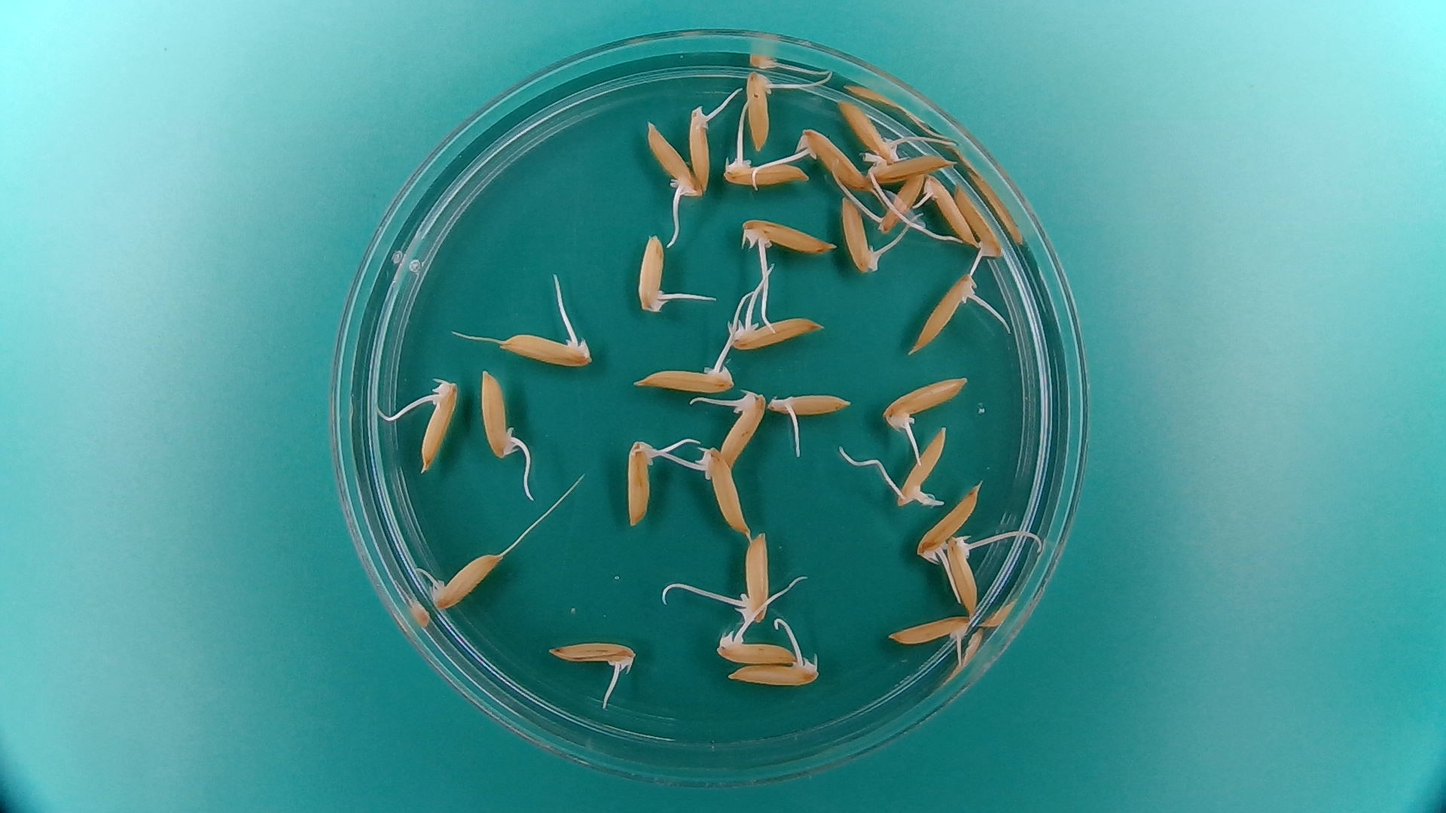yes: (908, 268, 979, 355), (689, 441, 751, 540), (913, 481, 982, 563), (795, 126, 869, 193), (880, 370, 969, 425), (891, 423, 948, 508), (643, 119, 704, 197), (423, 550, 502, 610), (476, 364, 523, 461), (834, 96, 905, 160), (738, 212, 836, 257), (415, 373, 462, 466), (624, 434, 669, 529), (718, 387, 769, 470), (632, 230, 678, 317), (733, 527, 774, 624), (728, 306, 816, 351), (953, 184, 1005, 260), (718, 148, 811, 190), (923, 175, 978, 245), (684, 100, 724, 196), (767, 388, 856, 430), (545, 635, 638, 671), (871, 173, 926, 233), (501, 332, 592, 368), (888, 611, 972, 649), (840, 197, 880, 275), (944, 531, 981, 614), (723, 656, 822, 687), (641, 364, 735, 394), (865, 154, 959, 184), (710, 634, 795, 665), (743, 71, 775, 153)
